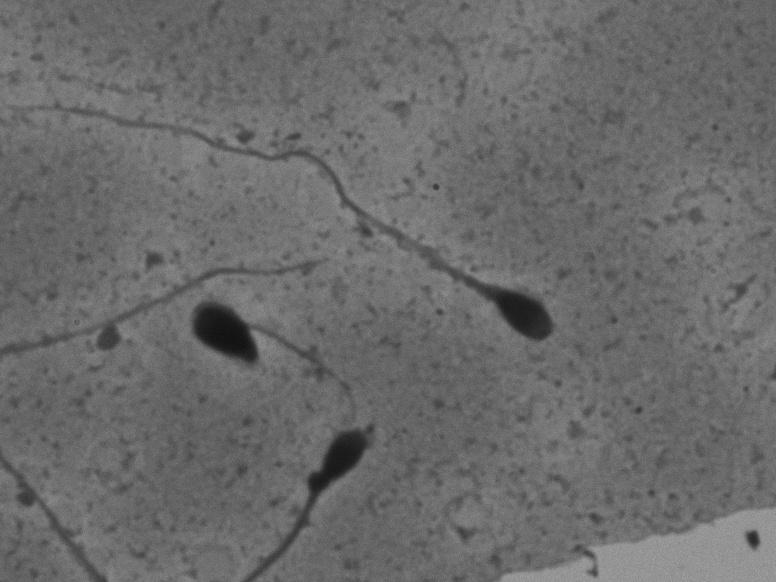Abnormal: (175, 275, 357, 424)
Normal: (19, 93, 564, 358)
